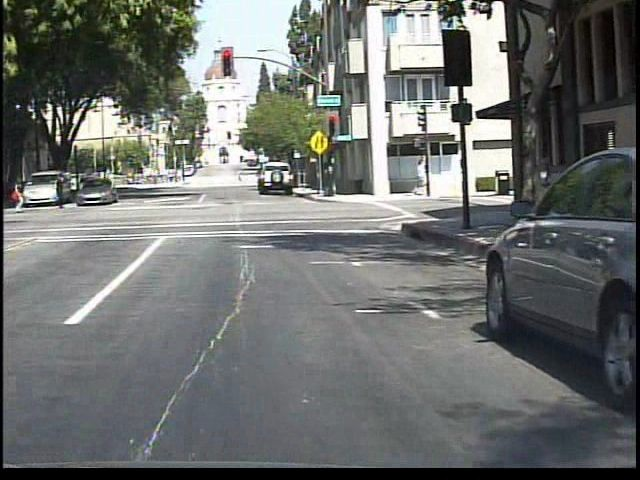person: (7, 176, 27, 215), (50, 170, 67, 212), (234, 170, 245, 187)
